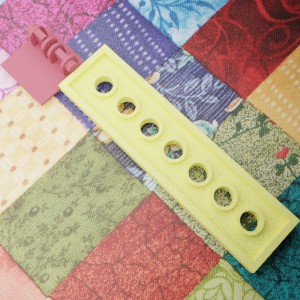lego: (58, 44, 299, 272), (0, 23, 87, 106)
